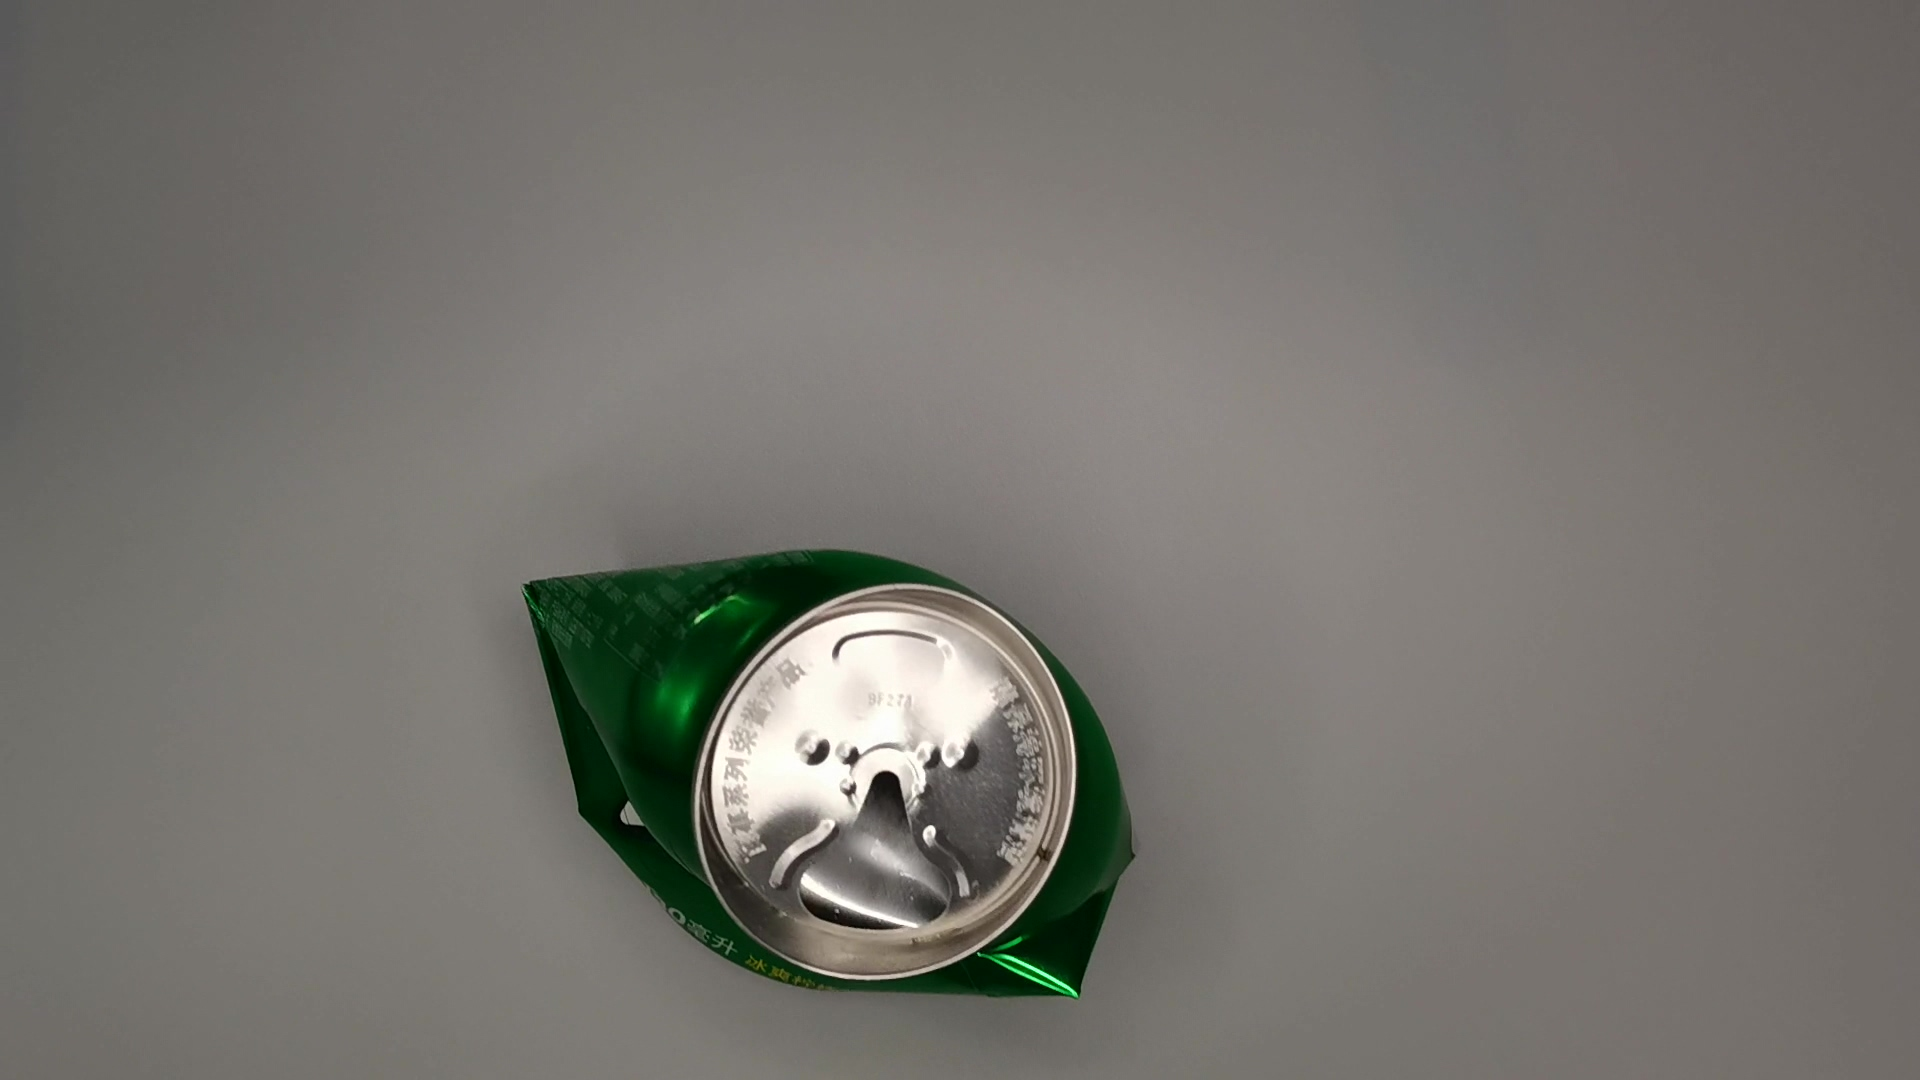can: (504, 527, 1156, 1026)
